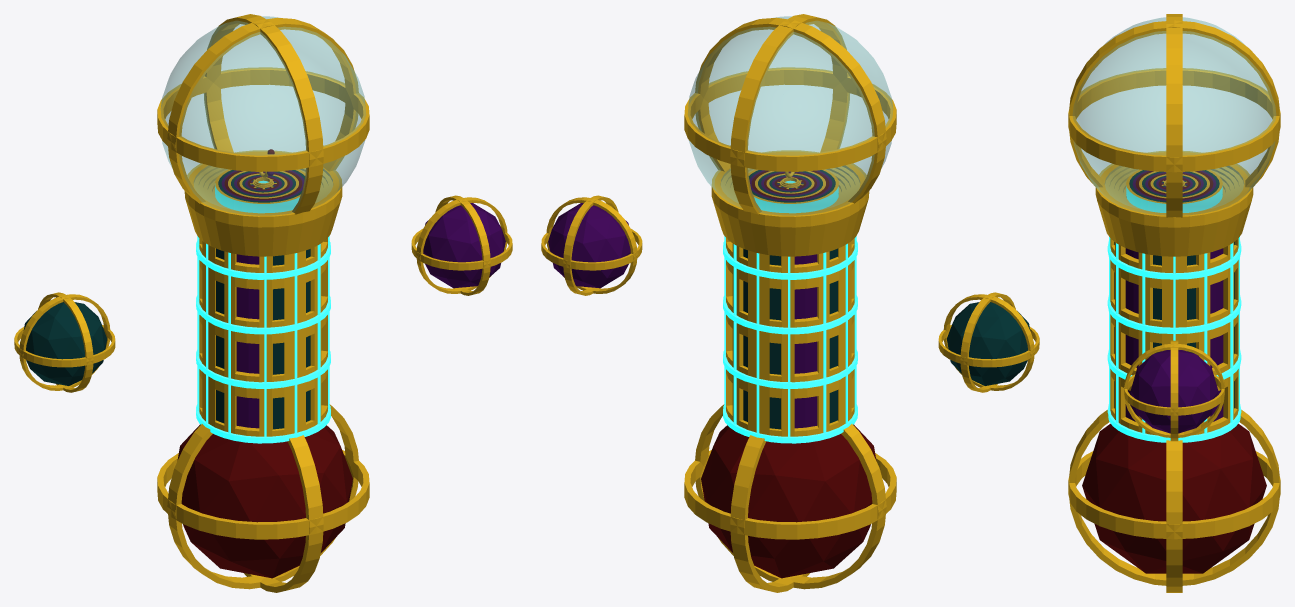
The model's file is observatorium.glb.
The picture shows the model from 3 angles, left to right: view 1: azimuth 30°, elevation 25°; view 2: azimuth 150°, elevation 25°; view 3: azimuth 270°, elevation 25°; orthographic projection.
Visible parts, largest first — view 1: Cylinder, Sphere, Cylinder.002, Icosphere.001, Cylinder.001, Cylinder.004, Cylinder.003, Icosphere.002, Icosphere, Cylinder.007; view 2: Cylinder, Sphere, Cylinder.002, Icosphere.001, Cylinder.001, Cylinder.004, Cylinder.003, Icosphere.002, Icosphere, Cylinder.007; view 3: Sphere, Cylinder, Icosphere.001, Cylinder.002, Cylinder.001, Cylinder.004, Icosphere.002, Cylinder.003, Cylinder.007.
Part boxes in pixels (x1=…): Cylinder: x1=196, y1=236, x2=330, y2=443; Sphere: x1=160, y1=16, x2=365, y2=215; Cylinder.002: x1=157, y1=14, x2=369, y2=214; Icosphere.001: x1=177, y1=424, x2=352, y2=578; Cylinder.001: x1=184, y1=150, x2=342, y2=256; Cylinder.004: x1=157, y1=404, x2=369, y2=592; Cylinder.003: x1=14, y1=195, x2=512, y2=392; Icosphere.002: x1=423, y1=203, x2=505, y2=288; Icosphere: x1=23, y1=302, x2=106, y2=385; Cylinder.007: x1=215, y1=180, x2=299, y2=213; Cylinder: x1=723, y1=236, x2=857, y2=443; Sphere: x1=688, y1=16, x2=893, y2=215; Cylinder.002: x1=684, y1=14, x2=896, y2=214; Icosphere.001: x1=701, y1=424, x2=876, y2=578; Cylinder.001: x1=711, y1=150, x2=869, y2=256; Cylinder.004: x1=684, y1=404, x2=896, y2=592; Cylinder.003: x1=541, y1=195, x2=1039, y2=392; Icosphere.002: x1=548, y1=203, x2=630, y2=288; Icosphere: x1=947, y1=302, x2=1030, y2=385; Cylinder.007: x1=754, y1=180, x2=838, y2=213; Sphere: x1=1073, y1=17, x2=1275, y2=215; Cylinder: x1=1107, y1=237, x2=1241, y2=442; Icosphere.001: x1=1082, y1=423, x2=1266, y2=573; Cylinder.002: x1=1068, y1=14, x2=1280, y2=217; Cylinder.001: x1=1095, y1=151, x2=1253, y2=256; Cylinder.004: x1=1068, y1=410, x2=1280, y2=592; Icosphere.002: x1=1130, y1=350, x2=1218, y2=433; Cylinder.003: x1=1124, y1=340, x2=1224, y2=441; Cylinder.007: x1=1126, y1=186, x2=1222, y2=212.
Bounding box in the file's own units: 113 × 125 × 42.94.
